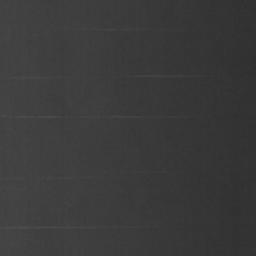Waist folding: (0, 114, 170, 120), (0, 225, 96, 231), (136, 73, 194, 79), (0, 75, 41, 80), (94, 27, 128, 32)
